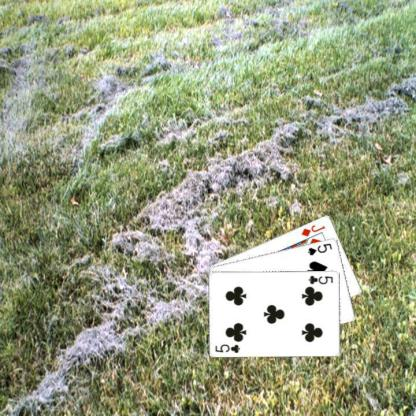5C: (306, 273, 335, 285), (213, 342, 242, 354)
5S: (306, 240, 333, 257)
JD: (299, 222, 326, 237)
